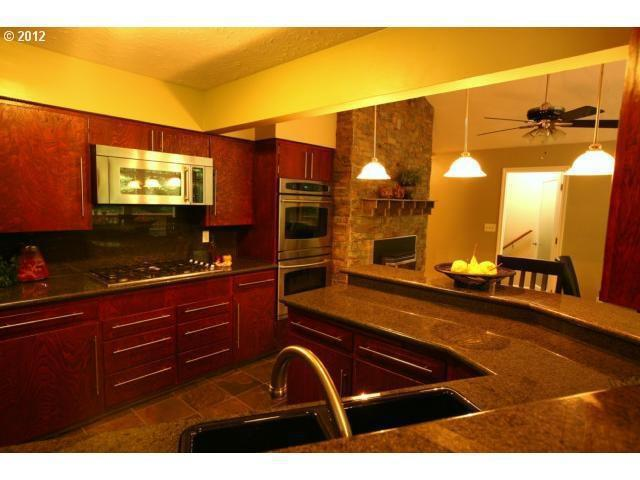Lavaplatos: (187, 342, 489, 452)
